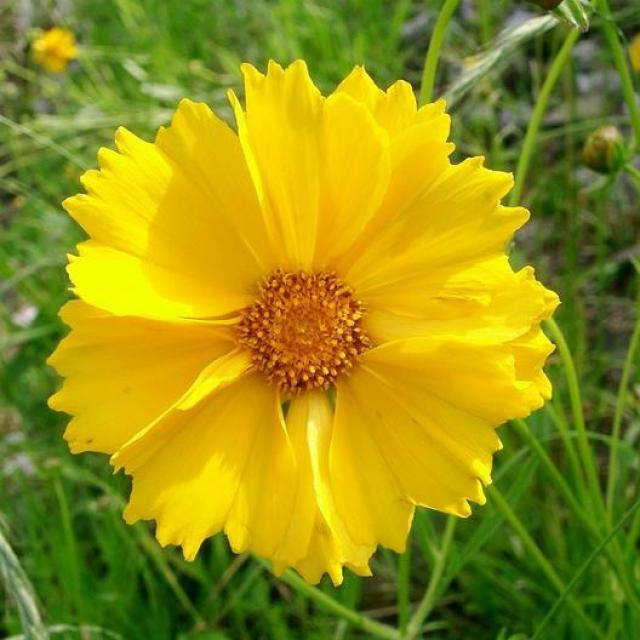organic waste: (48, 63, 551, 570)
